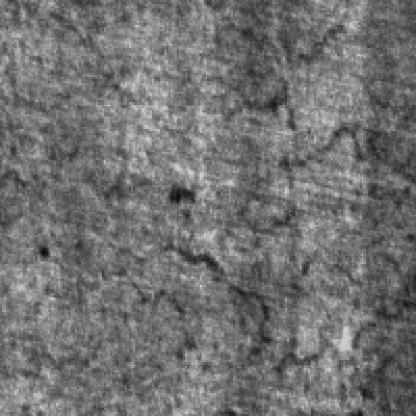crazing: (116, 241, 412, 381), (225, 77, 391, 235)
